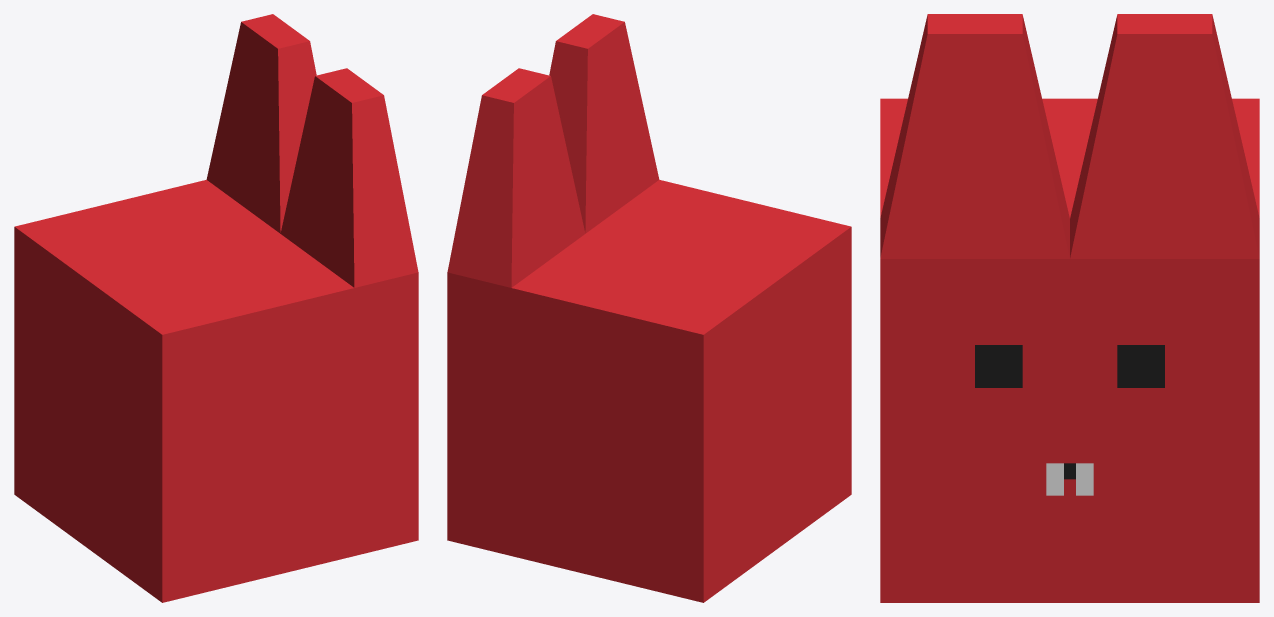
The model's file is Rabbit.fbx.
3 views of the same model, side by side, from view 1: azimuth 30°, elevation 25°; view 2: azimuth 150°, elevation 25°; view 3: azimuth 270°, elevation 25° (orthographic). The views are drawn at different scales.
Parts seen in each view (by area): view 1: Cube; view 2: Cube; view 3: Cube.
Part boxes in pixels (<box>): Cube: <box>14,14,418,602</box>; Cube: <box>447,14,851,602</box>; Cube: <box>880,14,1259,602</box>.
Bounding box in the file's own units: 80 × 130 × 80.
